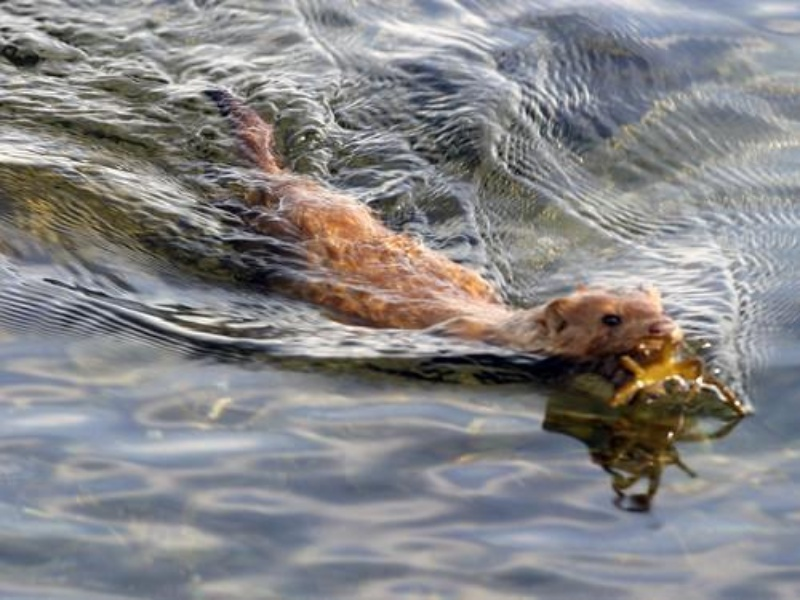minkish: (205, 83, 686, 392)
